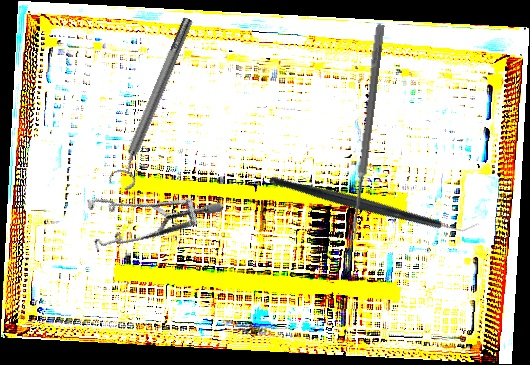Chopper: (268, 110, 480, 296)
Fixation Ring: (105, 13, 203, 193)
Speculum: (69, 149, 226, 293)
Surgical Spoon: (348, 23, 385, 243)
